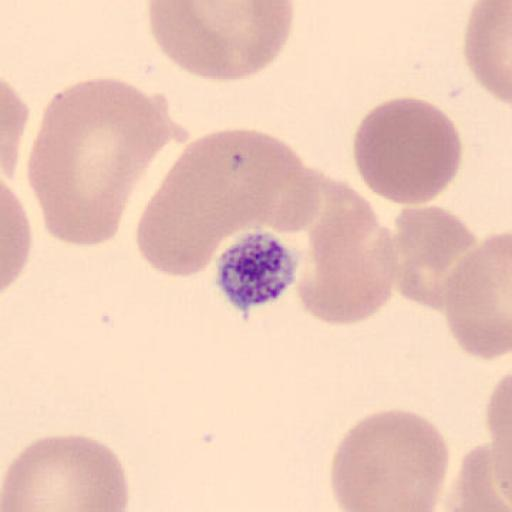Platelet: (204, 234, 318, 306)
RBC: (135, 127, 314, 276), (27, 76, 154, 248), (294, 188, 400, 326), (353, 96, 465, 206), (330, 408, 449, 510), (148, 0, 294, 82), (0, 433, 129, 510), (387, 204, 475, 309), (444, 229, 510, 361), (462, 378, 512, 512), (464, 0, 510, 103), (0, 189, 34, 299)
